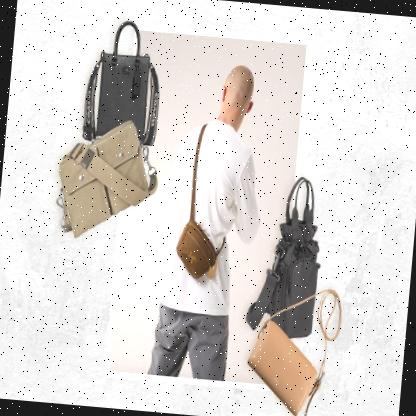bag: (48, 113, 166, 256), (235, 296, 357, 416), (74, 13, 174, 154), (172, 207, 223, 290)
person: (150, 60, 271, 384)
